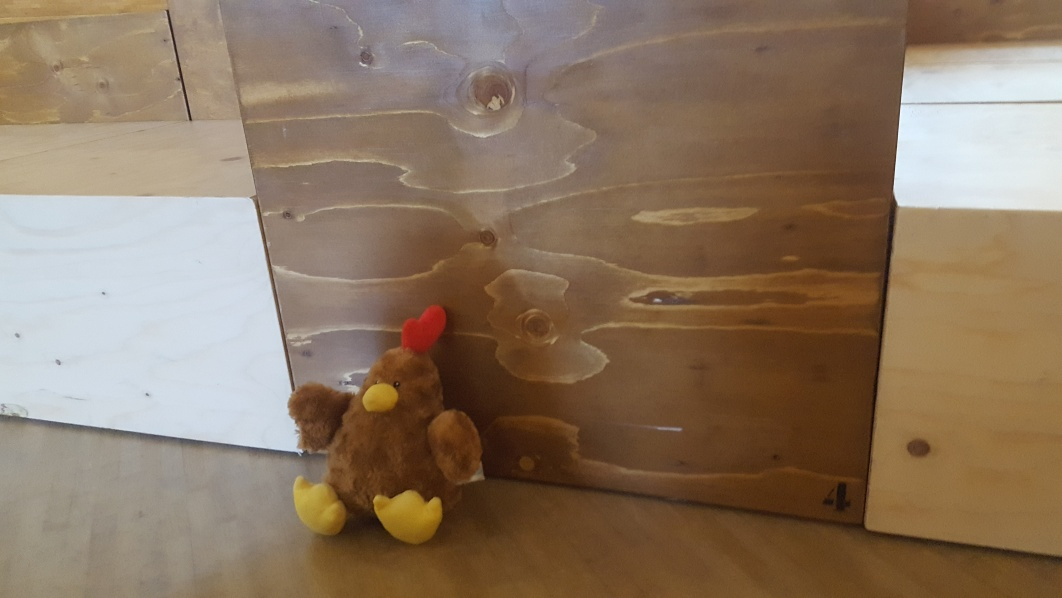chicken: (287, 303, 485, 543)
